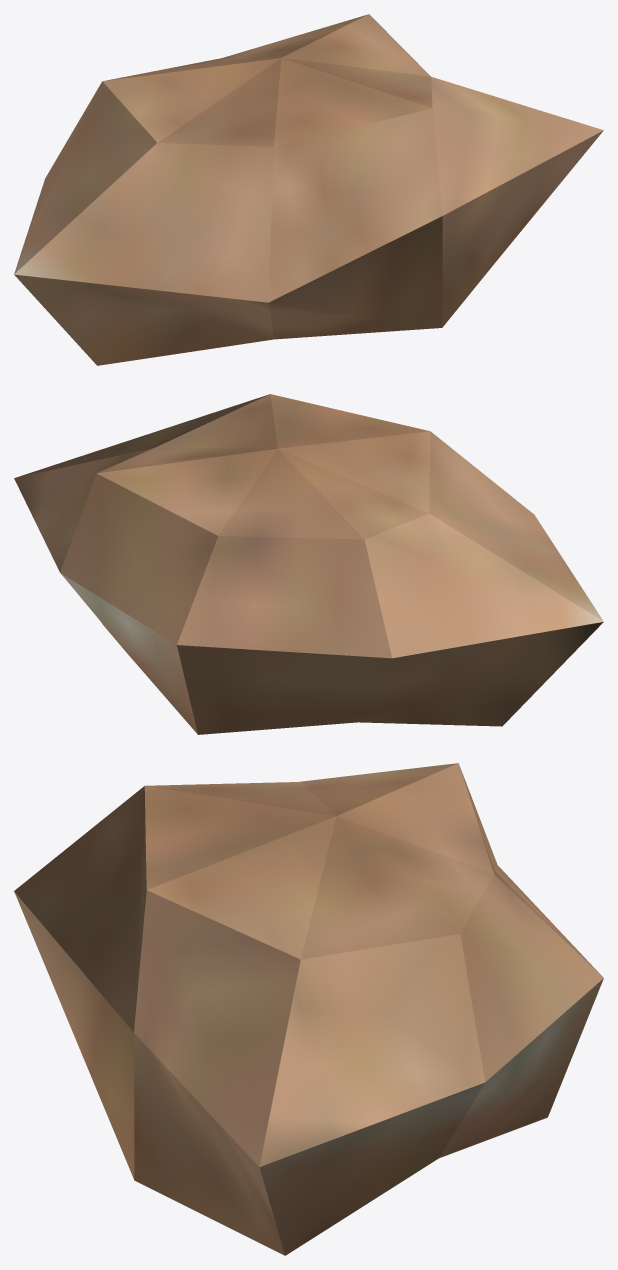
Rendered from SM_Rock_Desert_B.fbx.
3 views of the same model, one above another, from view 1: azimuth 30°, elevation 25°; view 2: azimuth 150°, elevation 25°; view 3: azimuth 270°, elevation 25° (orthographic). The views are drawn at different scales.
Parts seen in each view (by area): view 1: SM_Rock_Desert_B; view 2: SM_Rock_Desert_B; view 3: SM_Rock_Desert_B.
Boxes of the visible parts, x1,y1,x2,y2 form: SM_Rock_Desert_B: (14, 14, 603, 365); SM_Rock_Desert_B: (14, 394, 603, 734); SM_Rock_Desert_B: (14, 763, 603, 1255).
Bounding box in the file's own units: 744 × 312 × 487.
1 material, 1 textured.
